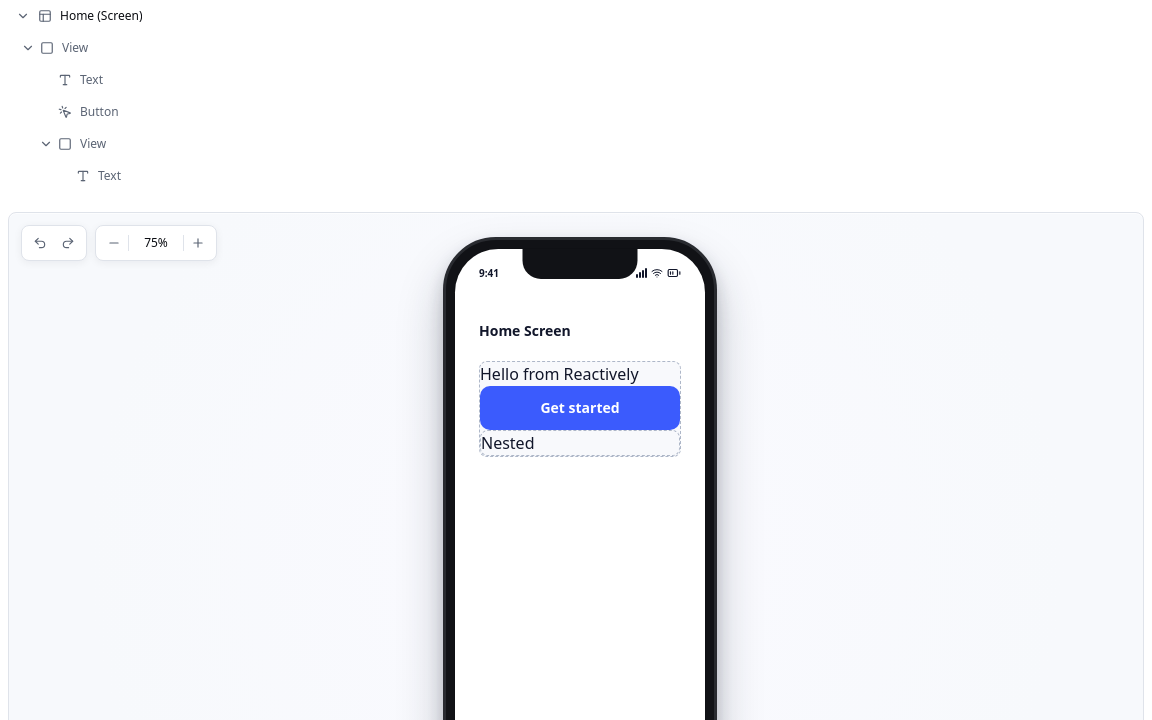
LayersPanel selection synchronization › automatically expands collapsed ancestors when the canvas selects a descendant
Click the 1st button named "Collapse View layer".
click(28, 48)  # box [16,36,40,60]
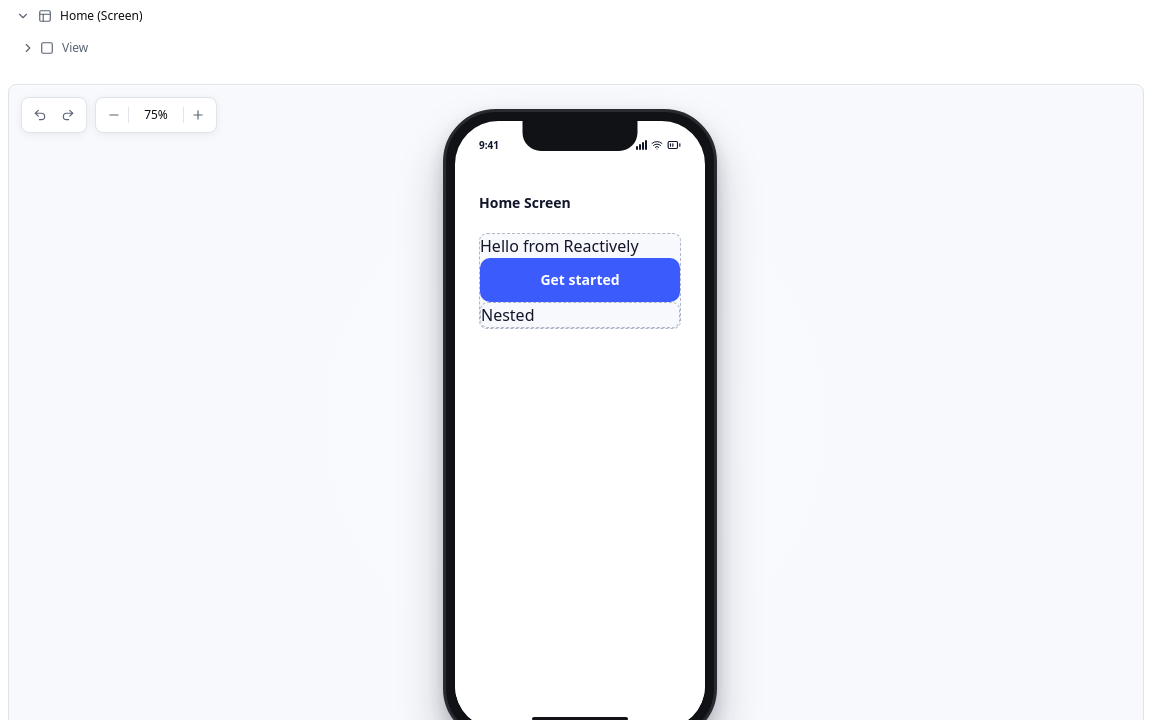
Click the button with aria-label "Select Deep Text".
click(508, 315)  # box [481,304,534,326]
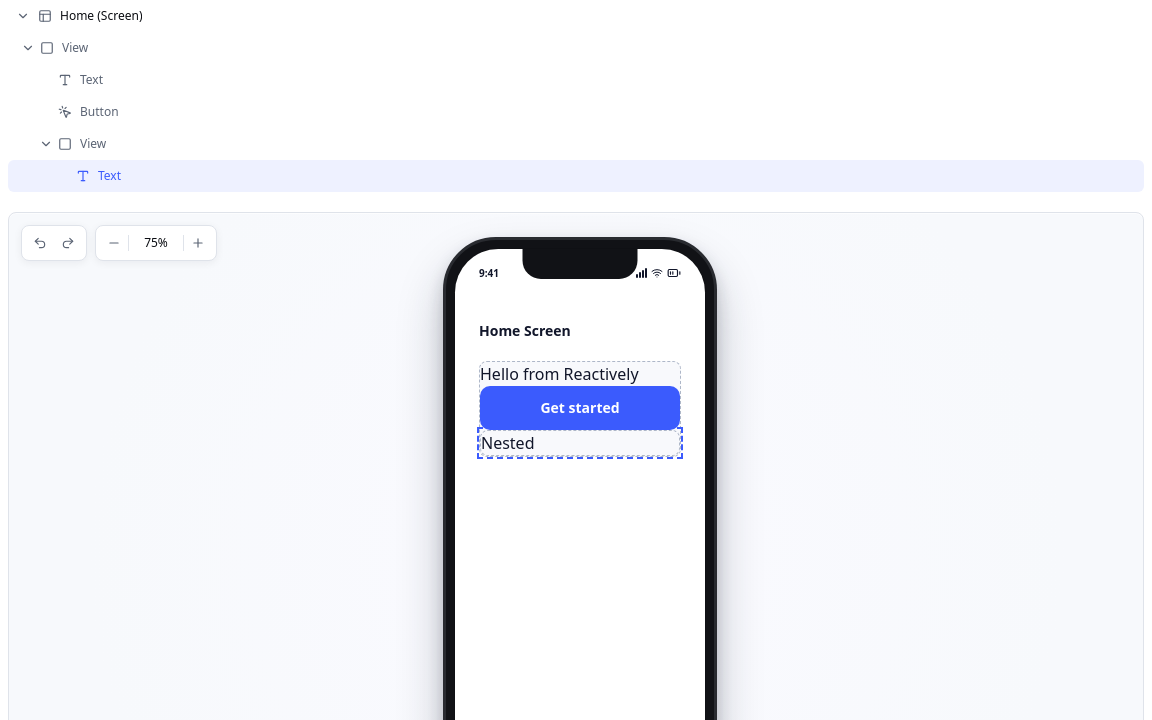
Check: the button with aria-label "Select Deep Text layer" is shown, box [76,160,1136,192]
